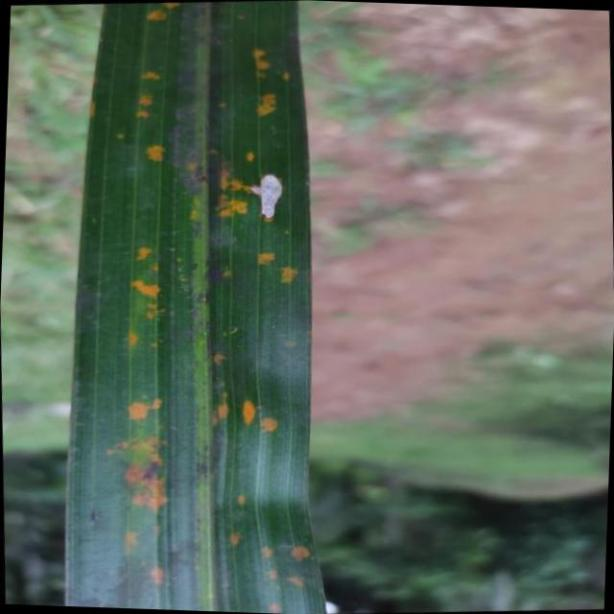Kalium: (64, 0, 329, 614)
